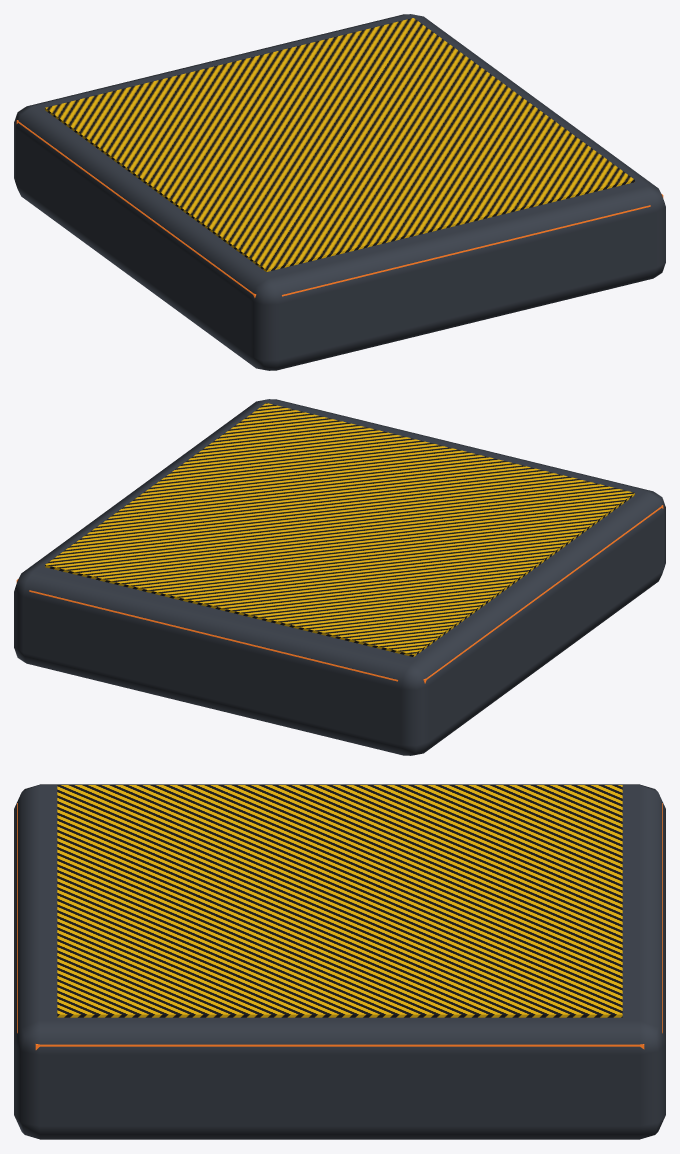
Rendered from obstacle_ramp.glb.
3 renders of one model, top to bottom at view 1: azimuth 30°, elevation 25°; view 2: azimuth 150°, elevation 25°; view 3: azimuth 270°, elevation 25°, orthographic. The views are drawn at different scales.
Parts seen in each view (by area): view 1: SteelPlate; view 2: SteelPlate; view 3: SteelPlate.
Part boxes in pixels (x1=…): SteelPlate: x1=14, y1=14, x2=665, y2=370; SteelPlate: x1=14, y1=399, x2=665, y2=755; SteelPlate: x1=14, y1=784, x2=665, y2=1139.
Size of the model in its own units: 2.8 by 0.615 by 3.
3 materials, 1 textured.
